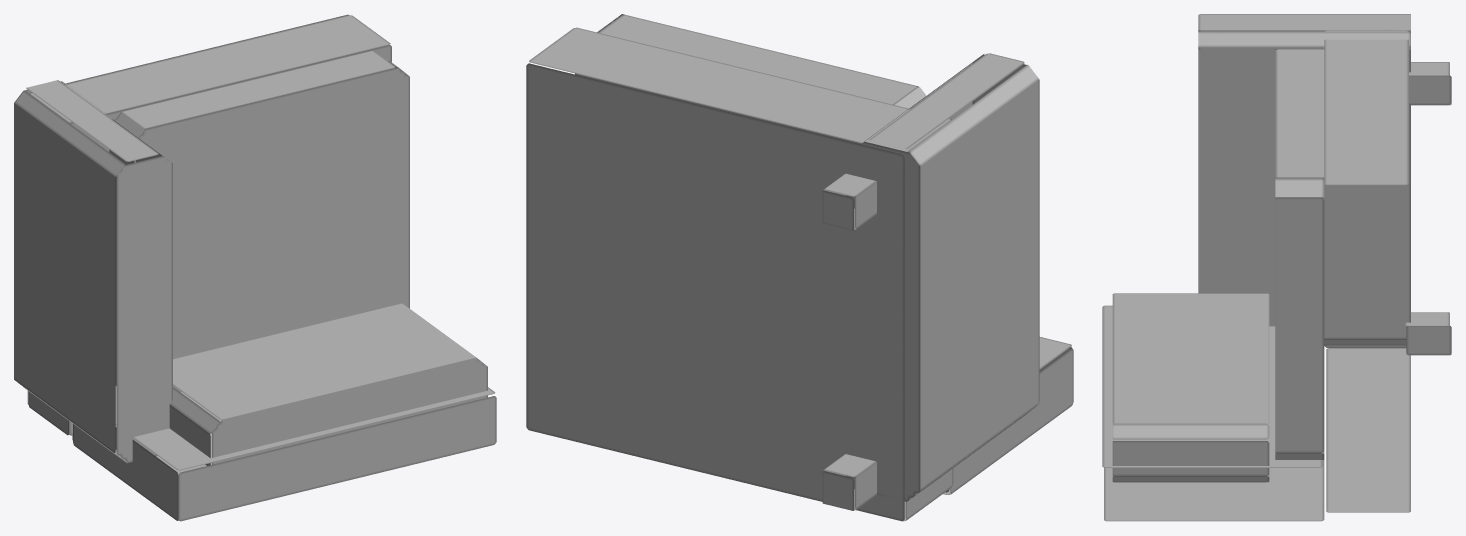
File: pz_sofa_seating_indoor_01_green_comfy_0_0.obj
3 renders of one model, left to right at view 1: azimuth 30°, elevation 25°; view 2: azimuth 150°, elevation 25°; view 3: azimuth 270°, elevation 25°, orthographic. The views are drawn at different scales.
Size of the model in its own units: 1 by 0.93 by 0.86.
1 material, 1 textured.
